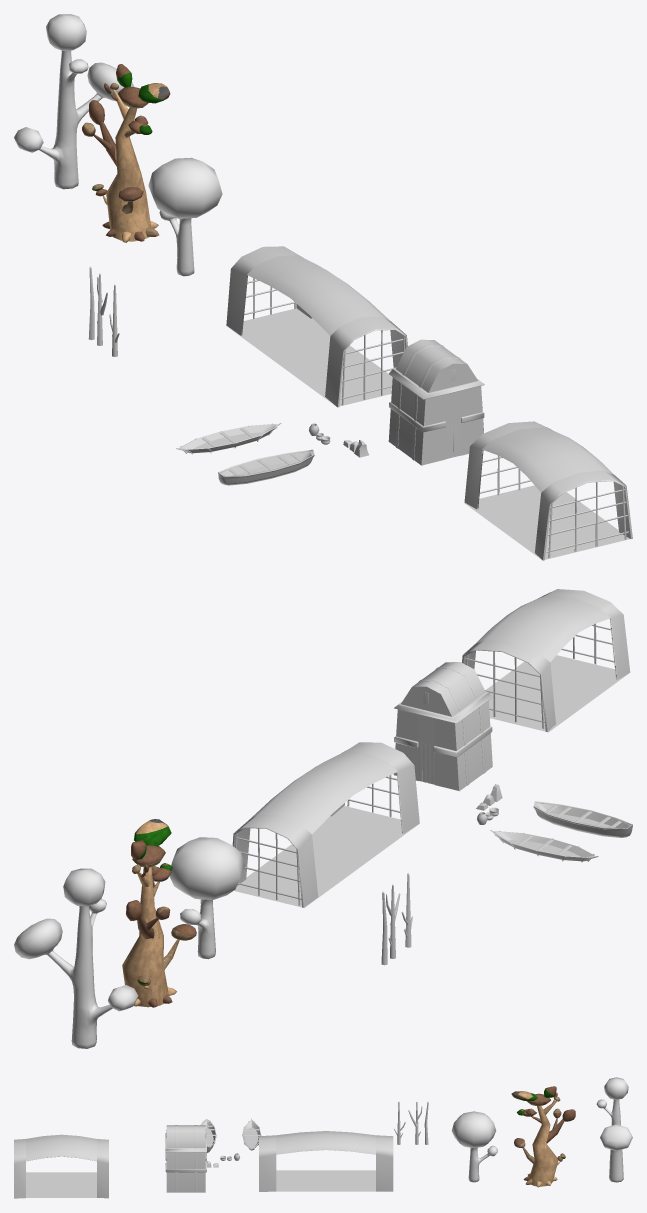
Rendered from Assets_01_JAM.fbx.
3 renders of one model, top to bottom at view 1: azimuth 30°, elevation 25°; view 2: azimuth 150°, elevation 25°; view 3: azimuth 270°, elevation 25°, orthographic. The views are drawn at different scales.
Parts seen in each view (by area): view 1: Maison_01_low, maison_02_low, Maison_Toit, Arbre, arbre3, arbre2, Barque_02_low, Barque_01_low; view 2: Maison_01_low, maison_02_low, Maison_Toit, arbre3, Arbre, arbre2, Barque_02_low, Barque_01_low; view 3: Maison_01_low, maison_02_low, Maison_Toit, Arbre, arbre3, arbre2, Barque_01_low, Barque_02_low, Pic_02_low.
Part boxes in pixels (x1,y1,x2,y2): Maison_01_low: [226, 246, 407, 407]; maison_02_low: [464, 421, 632, 560]; Maison_Toit: [388, 339, 484, 465]; Arbre: [82, 64, 170, 242]; arbre3: [14, 14, 134, 189]; arbre2: [148, 157, 222, 276]; Barque_02_low: [218, 449, 314, 485]; Barque_01_low: [176, 423, 281, 454]; Maison_01_low: [232, 742, 419, 907]; maison_02_low: [462, 589, 630, 732]; Maison_Toit: [393, 662, 492, 791]; arbre3: [14, 868, 138, 1048]; Arbre: [122, 819, 196, 1007]; arbre2: [169, 837, 244, 959]; Barque_02_low: [533, 801, 632, 837]; Barque_01_low: [490, 830, 598, 862]; Maison_01_low: [259, 1131, 393, 1191]; maison_02_low: [14, 1134, 108, 1198]; Maison_Toit: [165, 1125, 206, 1192]; Arbre: [511, 1086, 575, 1187]; arbre3: [596, 1077, 632, 1182]; arbre2: [451, 1111, 497, 1182]; Barque_01_low: [242, 1118, 261, 1150]; Barque_02_low: [200, 1119, 216, 1152]; Pic_02_low: [408, 1102, 422, 1144].
Bounding box in the file's own units: 13.08 × 8.43 × 45.42.
